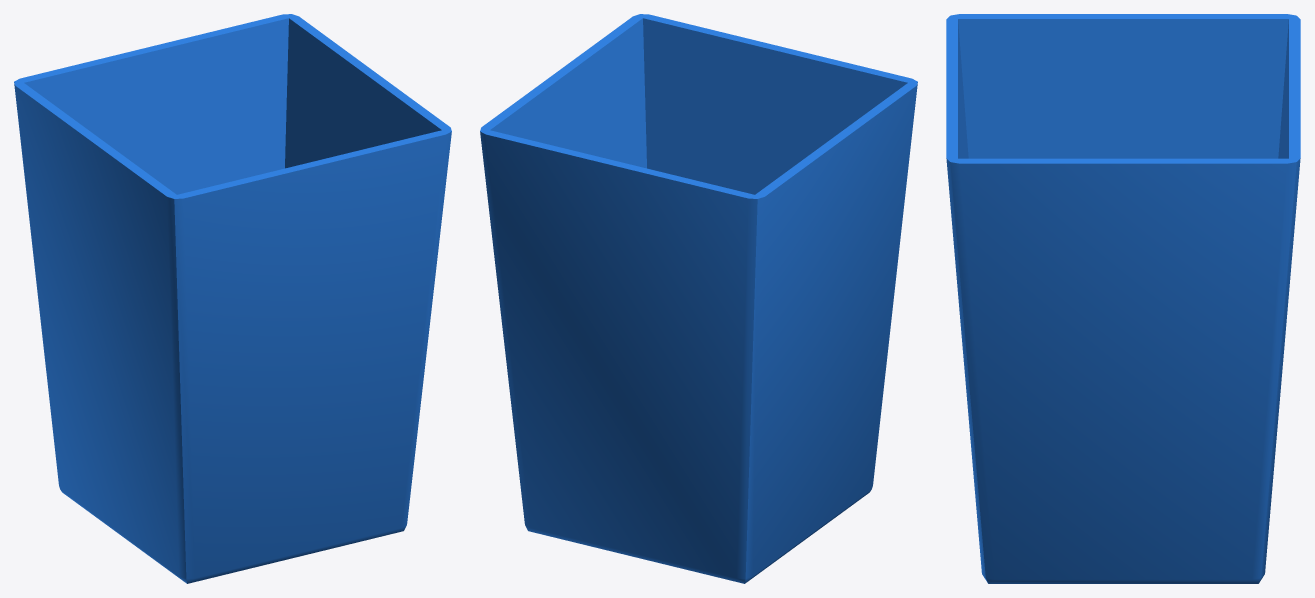
File: blue basket.fbx
The picture shows the model from 3 angles, left to right: view 1: azimuth 30°, elevation 25°; view 2: azimuth 150°, elevation 25°; view 3: azimuth 270°, elevation 25°; orthographic projection. The views are drawn at different scales.
Visible parts, largest first — view 1: Cube; view 2: Cube; view 3: Cube.
Boxes of the visible parts, bbox=[...] form: Cube: bbox=[14, 14, 451, 583]; Cube: bbox=[480, 14, 917, 583]; Cube: bbox=[946, 14, 1300, 583].
Bounding box in the file's own units: 157 × 214 × 157.
Materials: 1 (1 with a texture image).
